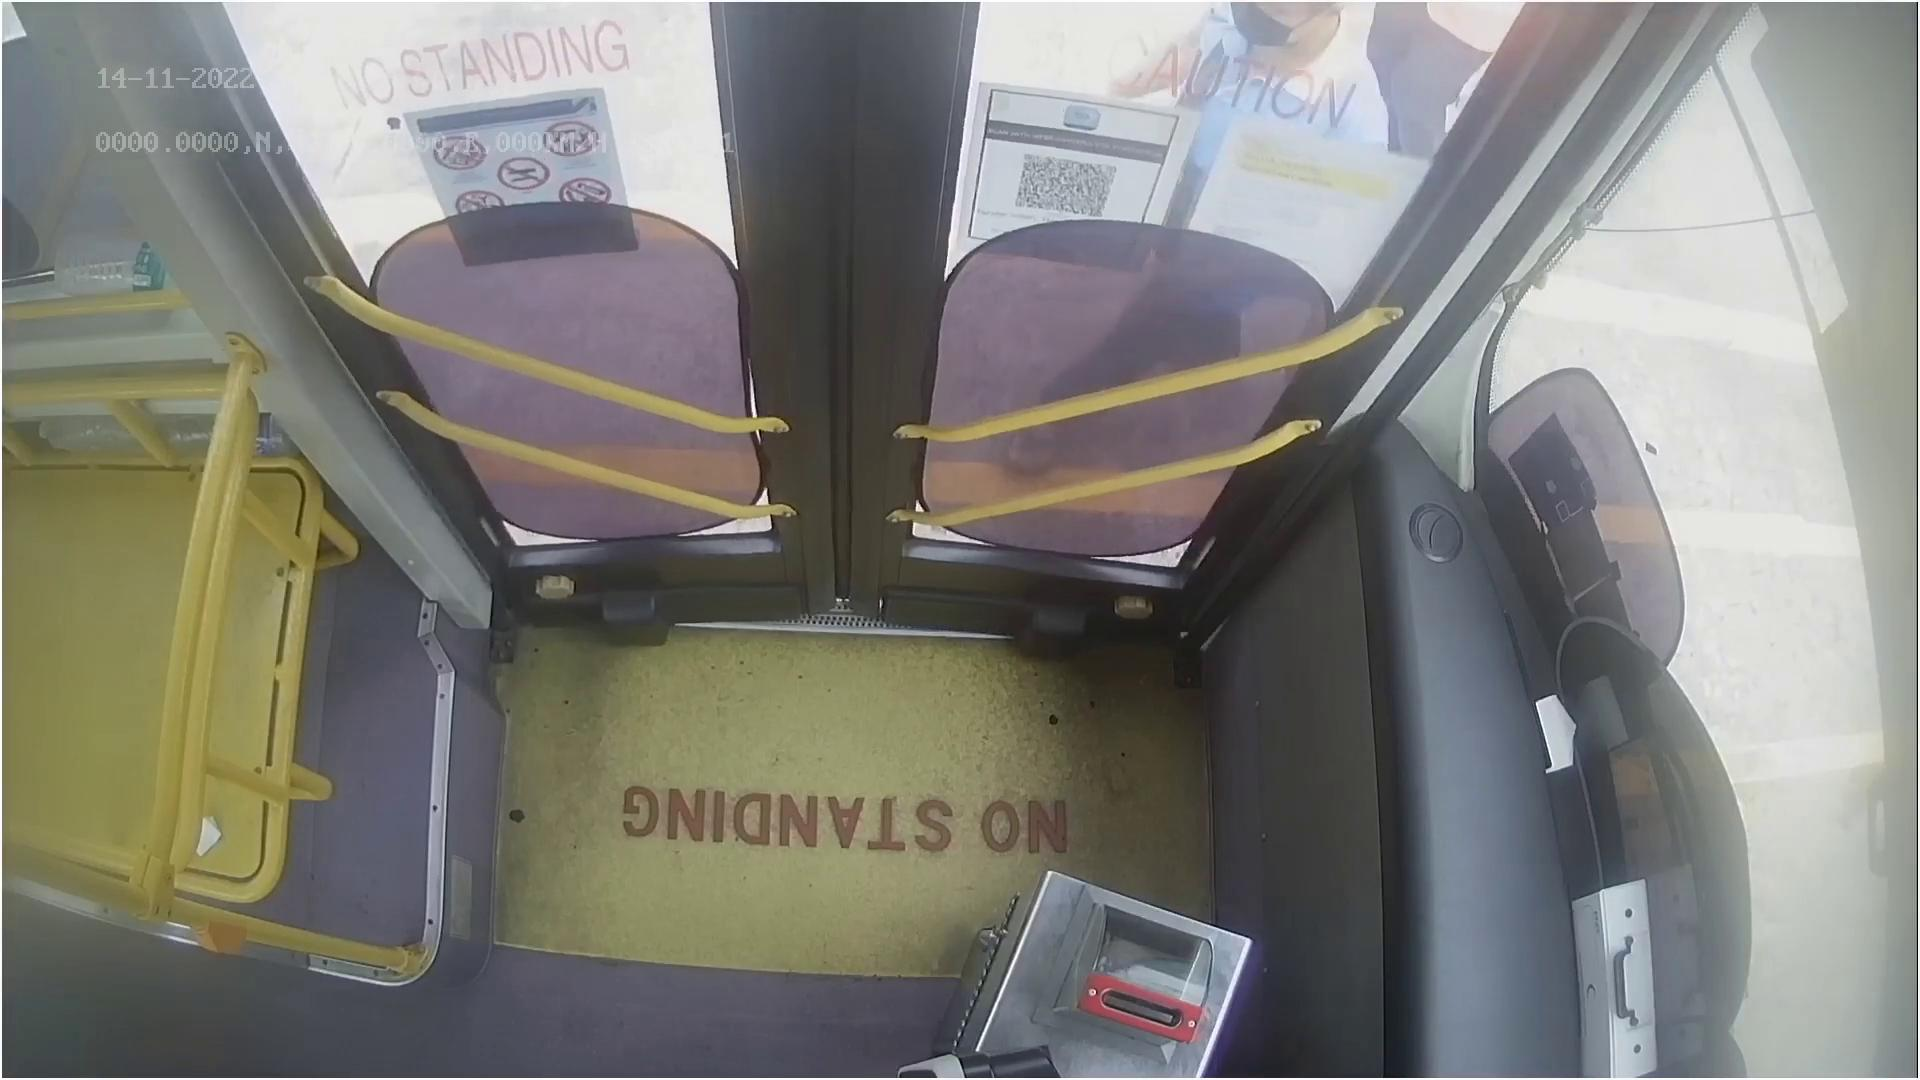close: (282, 0, 1477, 157)
